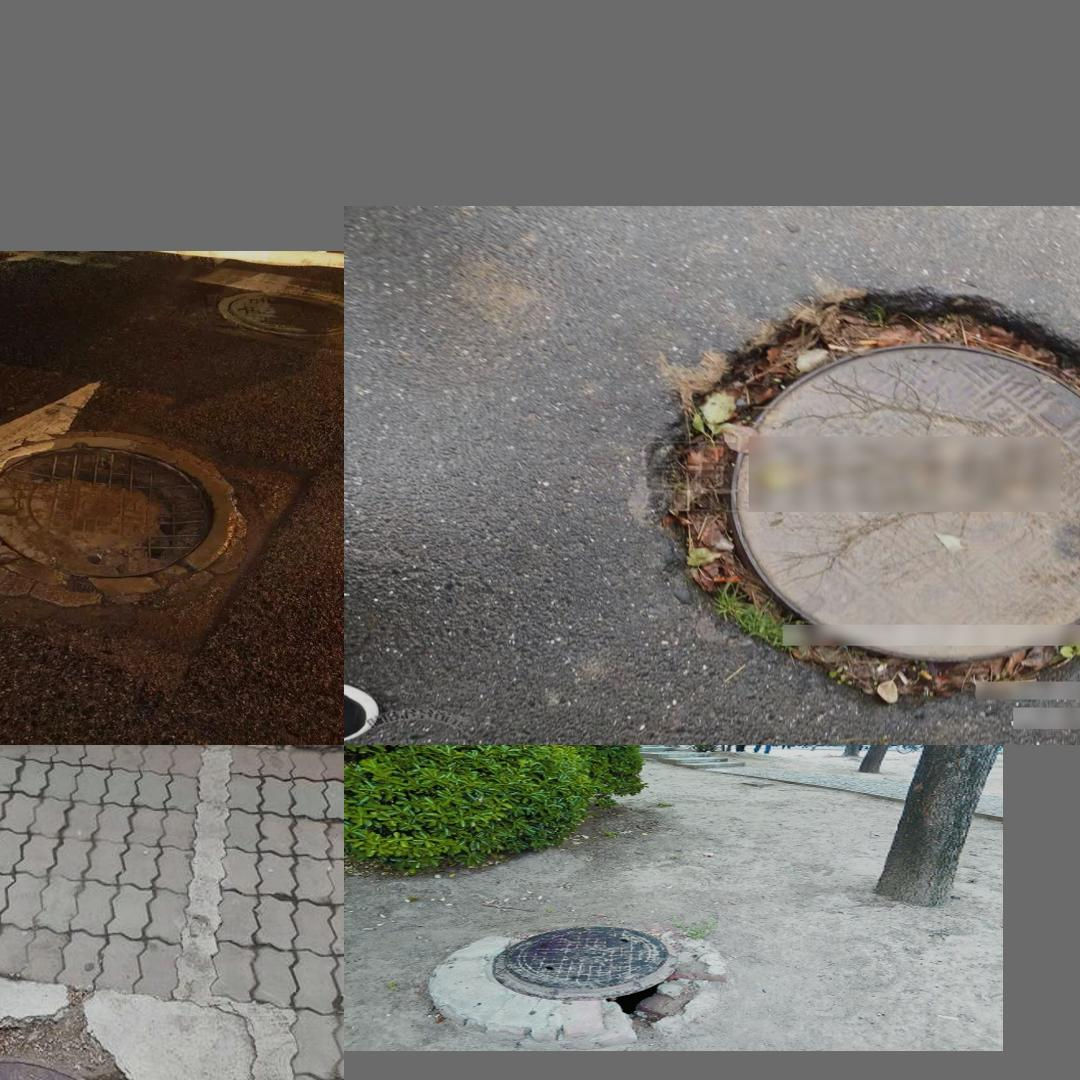circle: (646, 293, 1080, 698), (0, 413, 297, 652), (419, 922, 742, 1036), (0, 996, 228, 1080)
